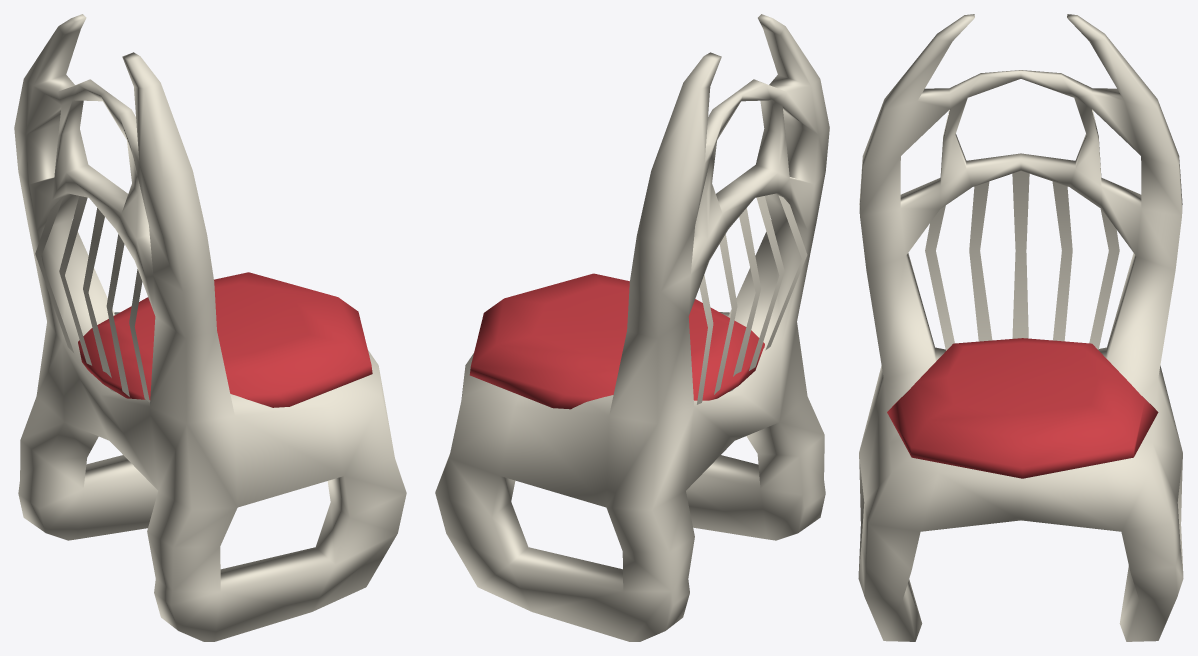
The model's file is VartraChair.fbx.
The picture shows the model from 3 angles, left to right: view 1: azimuth 30°, elevation 25°; view 2: azimuth 150°, elevation 25°; view 3: azimuth 270°, elevation 25°; orthographic projection. The views are drawn at different scales.
Parts seen in each view (by area): view 1: Plane.007; view 2: Plane.007; view 3: Plane.007.
Boxes of the visible parts, box(x1,y1,x2,y2) form: Plane.007: box(14, 14, 406, 641); Plane.007: box(435, 14, 829, 641); Plane.007: box(858, 14, 1183, 641).
Bounding box in the file's own units: 82.9 × 160 × 86.67.
